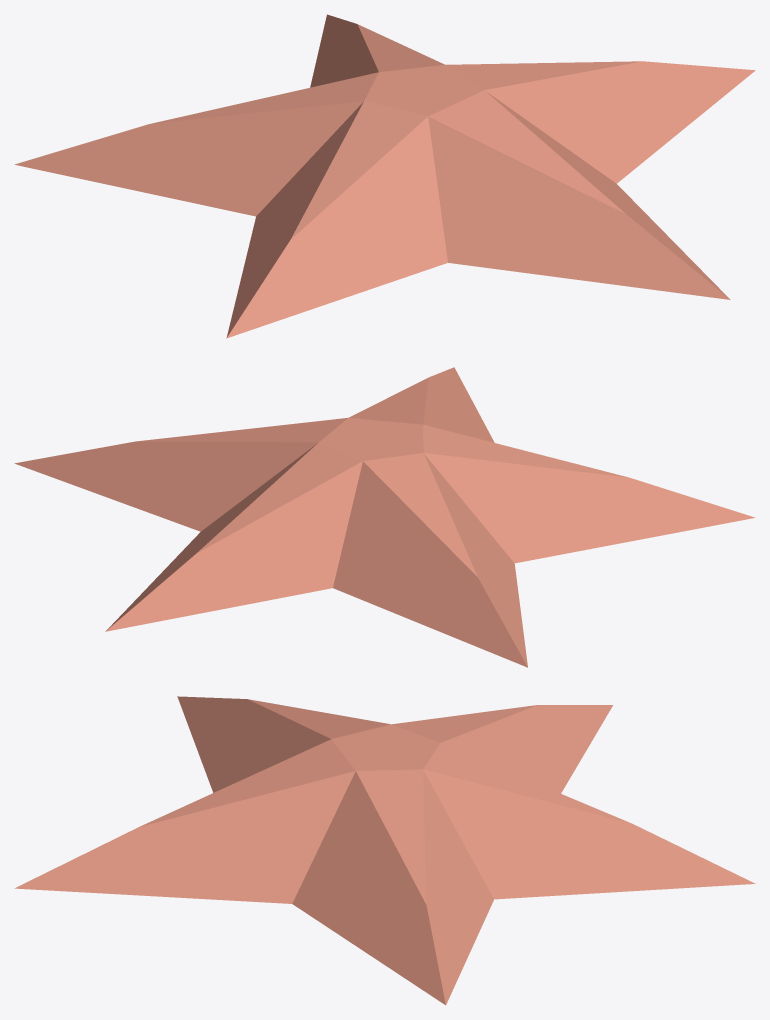
Rendered from Beach_Prop_Starfish_1.glb.
3 views of the same model, one above another, from view 1: azimuth 30°, elevation 25°; view 2: azimuth 150°, elevation 25°; view 3: azimuth 270°, elevation 25° (orthographic). The views are drawn at different scales.
Visible parts, largest first — view 1: Beach_Prop_Starfish_1; view 2: Beach_Prop_Starfish_1; view 3: Beach_Prop_Starfish_1.
Part boxes in pixels (x1,y1,x2,y2): Beach_Prop_Starfish_1: (14, 14, 755, 338); Beach_Prop_Starfish_1: (14, 367, 755, 667); Beach_Prop_Starfish_1: (14, 696, 755, 1005).
Size of the model in its own units: 0.189 by 0.025 by 0.1917.
